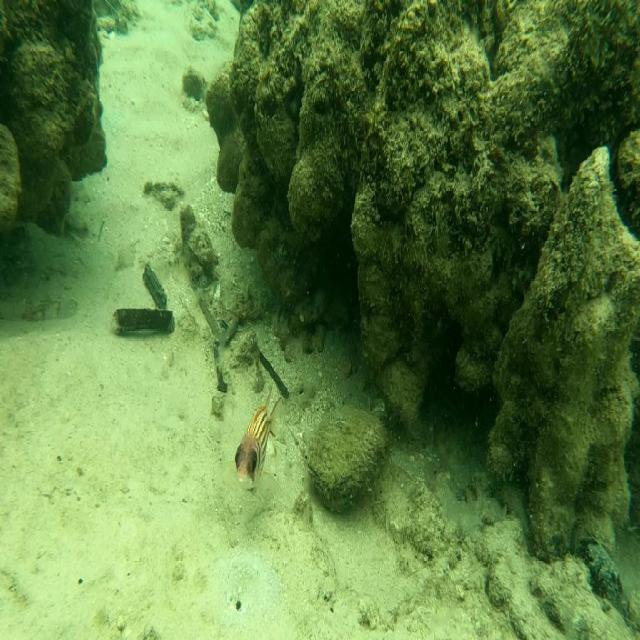Asker Baligi: (228, 372, 284, 510)
